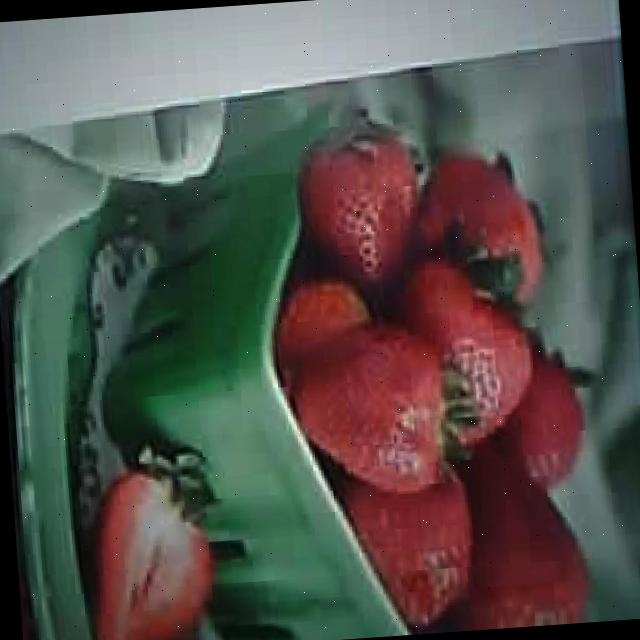strawberry: (292, 325, 442, 498)
